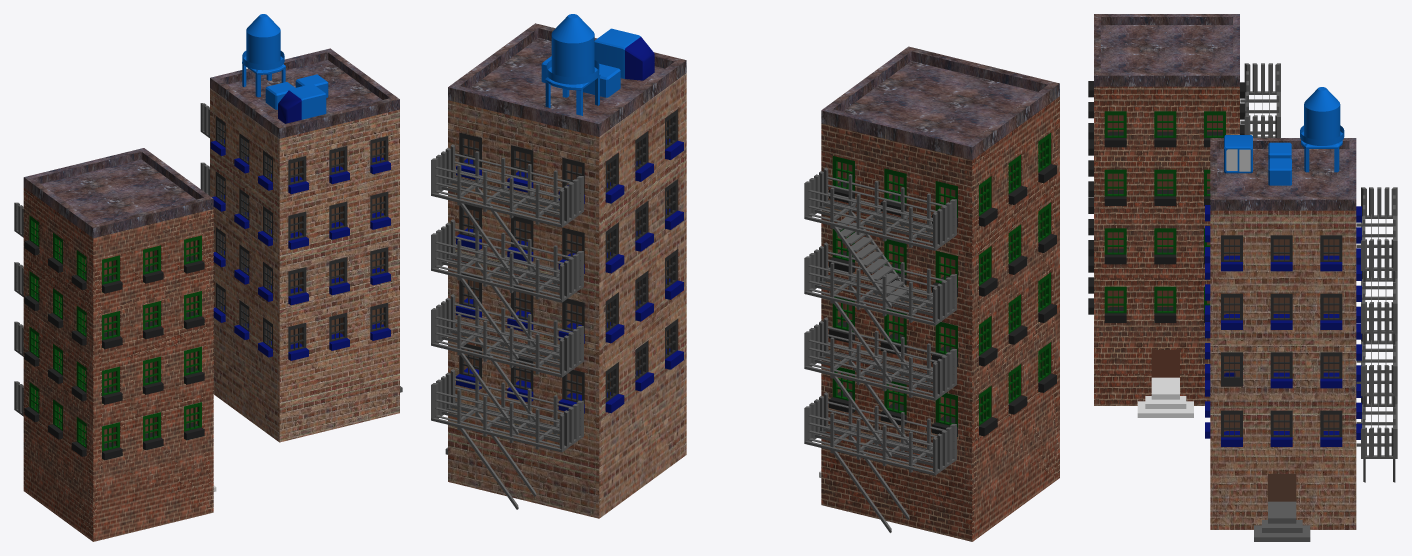
The model's file is building.fbx.
3 renders of one model, left to right at view 1: azimuth 30°, elevation 25°; view 2: azimuth 150°, elevation 25°; view 3: azimuth 270°, elevation 25°, orthographic. The views are drawn at different scales.
Parts seen in each view (by area): view 1: building_4, building_3, Cube.011, pegangan.003; view 2: building_4, building_3, pegangan.003, Cube.011, tangga.003; view 3: building_4, building_3, Cube.011, pegangan.003, Cube.010.
Part boxes in pixels (box(x1,y1,x2,y2)): building_4: box(200, 14, 402, 442); building_3: box(23, 148, 213, 541); Cube.011: box(24, 215, 204, 460); pegangan.003: box(14, 202, 23, 416); building_4: box(431, 14, 686, 518); building_3: box(821, 46, 1059, 541); pegangan.003: box(804, 167, 956, 532); Cube.011: box(829, 132, 1056, 436); tangga.003: box(832, 216, 908, 302); building_4: box(1205, 87, 1397, 541); building_3: box(1094, 14, 1239, 405); Cube.011: box(1088, 81, 1245, 322); pegangan.003: box(1240, 63, 1280, 137); Cube.010: box(1137, 377, 1193, 417).
Size of the model in its own units: 648 by 601 by 423.
